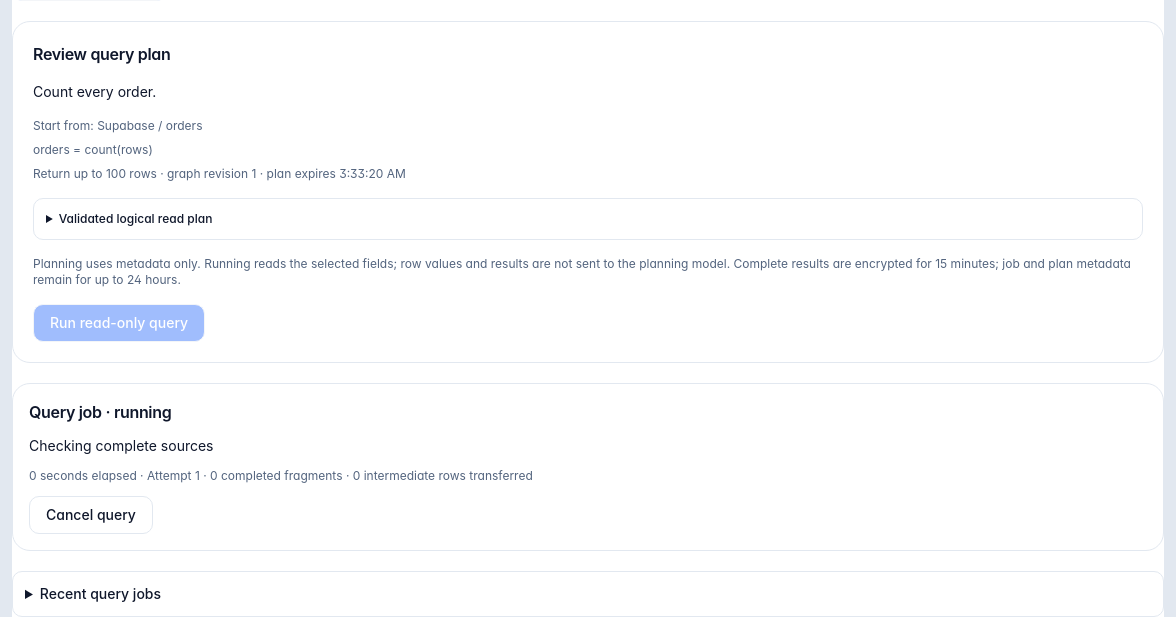
cancels a pending job without displaying rows
(page scrolled)
Click the button "Cancel query".
click(91, 515)  # box [29,496,153,534]
(page scrolled)
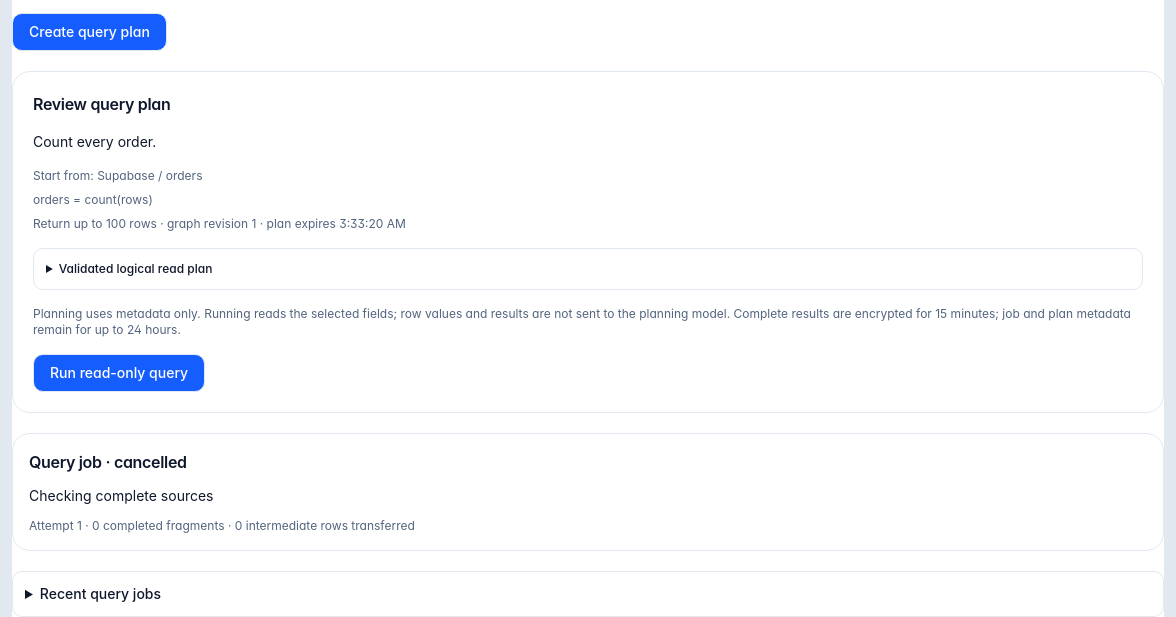
Check: the element labelled "Query job" shows "cancelled", box [114,452,187,472]
